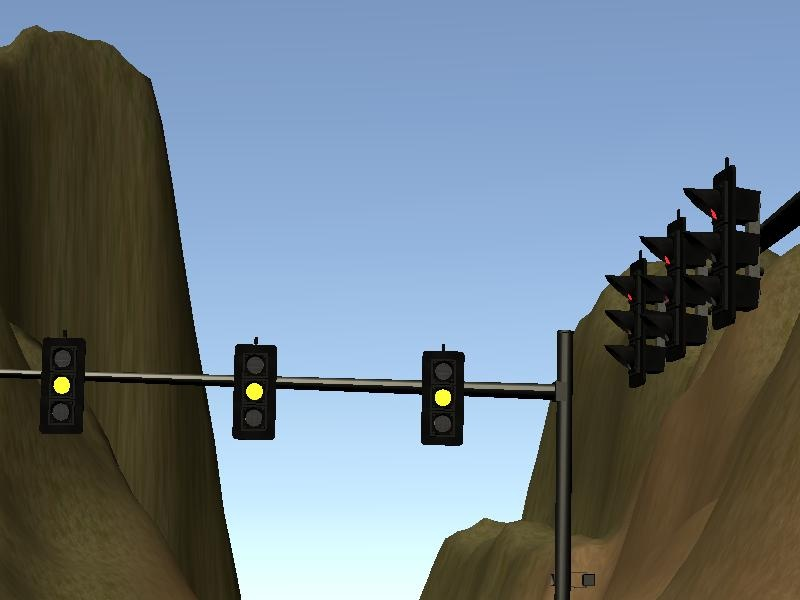YELLOW: (37, 337, 84, 435), (231, 341, 278, 439), (418, 348, 465, 446)
